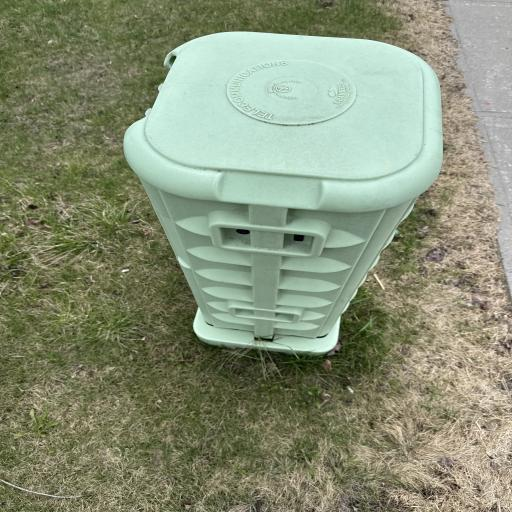Electrical Box: (126, 31, 441, 356)
